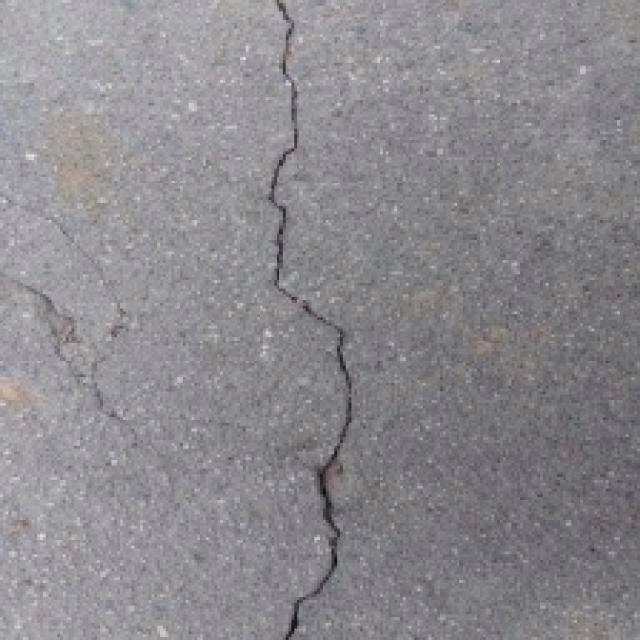SurfaceCrack: (256, 0, 366, 640)
